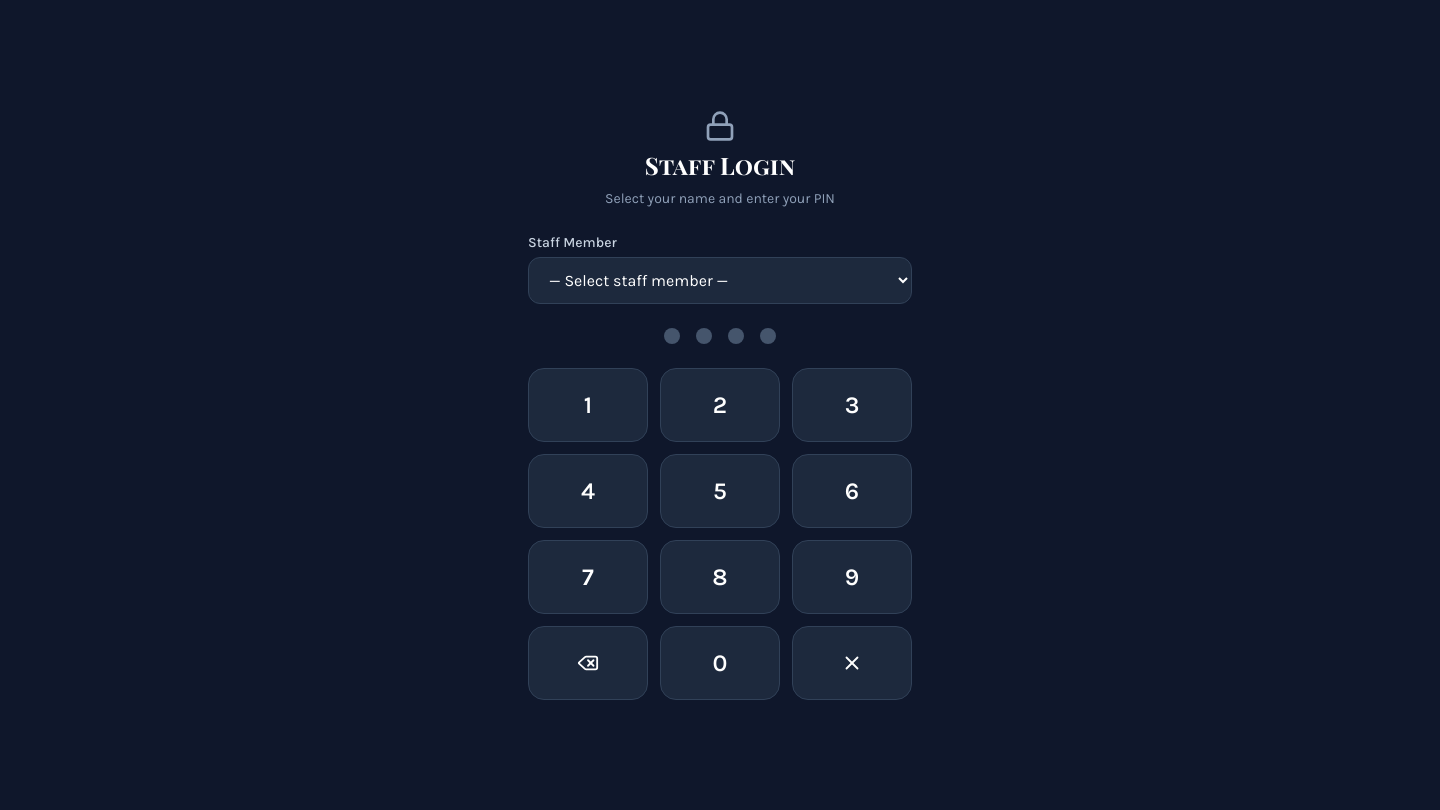
Test case: PinLoginScreen › on invalid PIN shows error message and clears digits
The width and height of the screenshot is (1440, 810).
Select "Alice" in the dropdown labelled "Staff Member": (720, 281) [528,257,912,304]
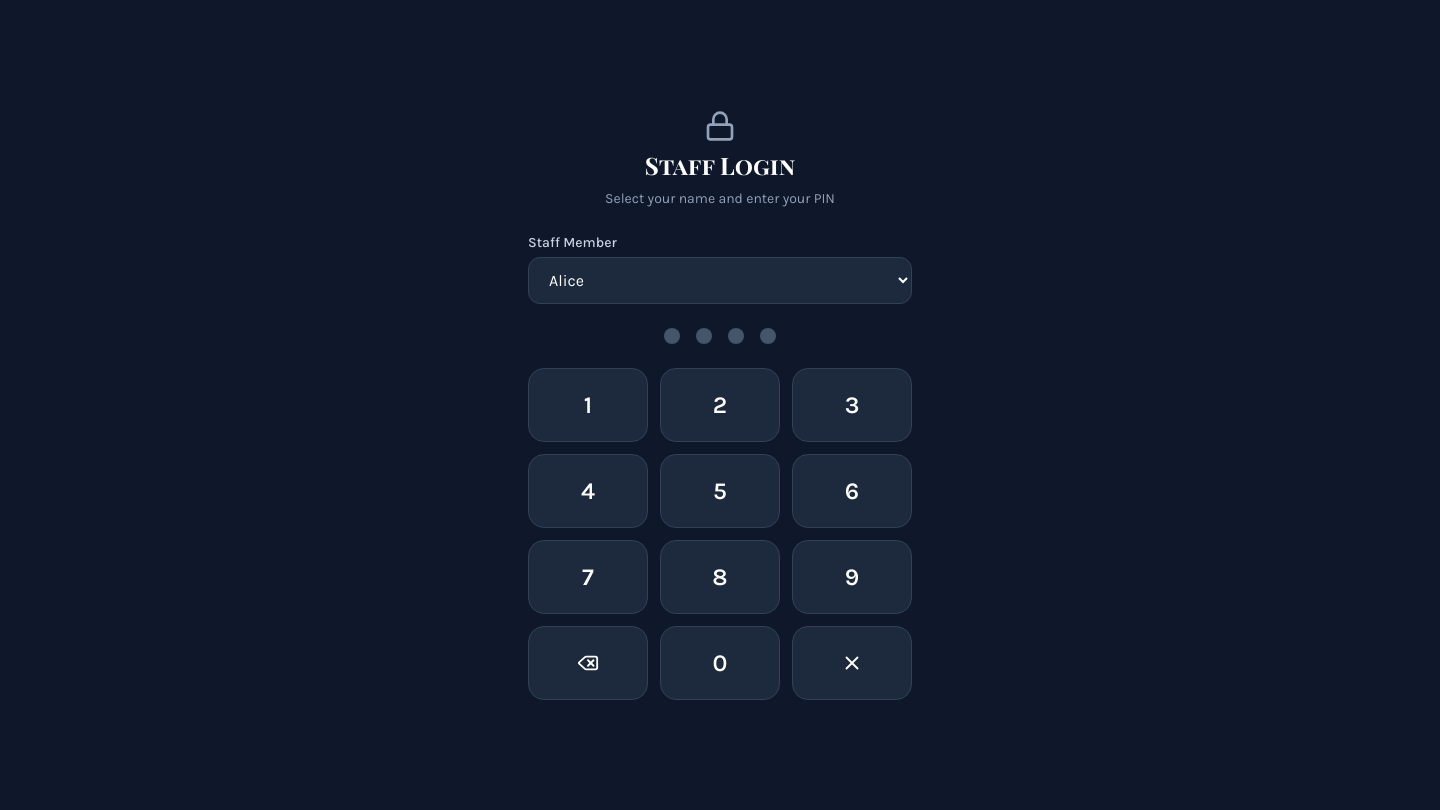
Click the button "9": (852, 577) [792,540,912,614]
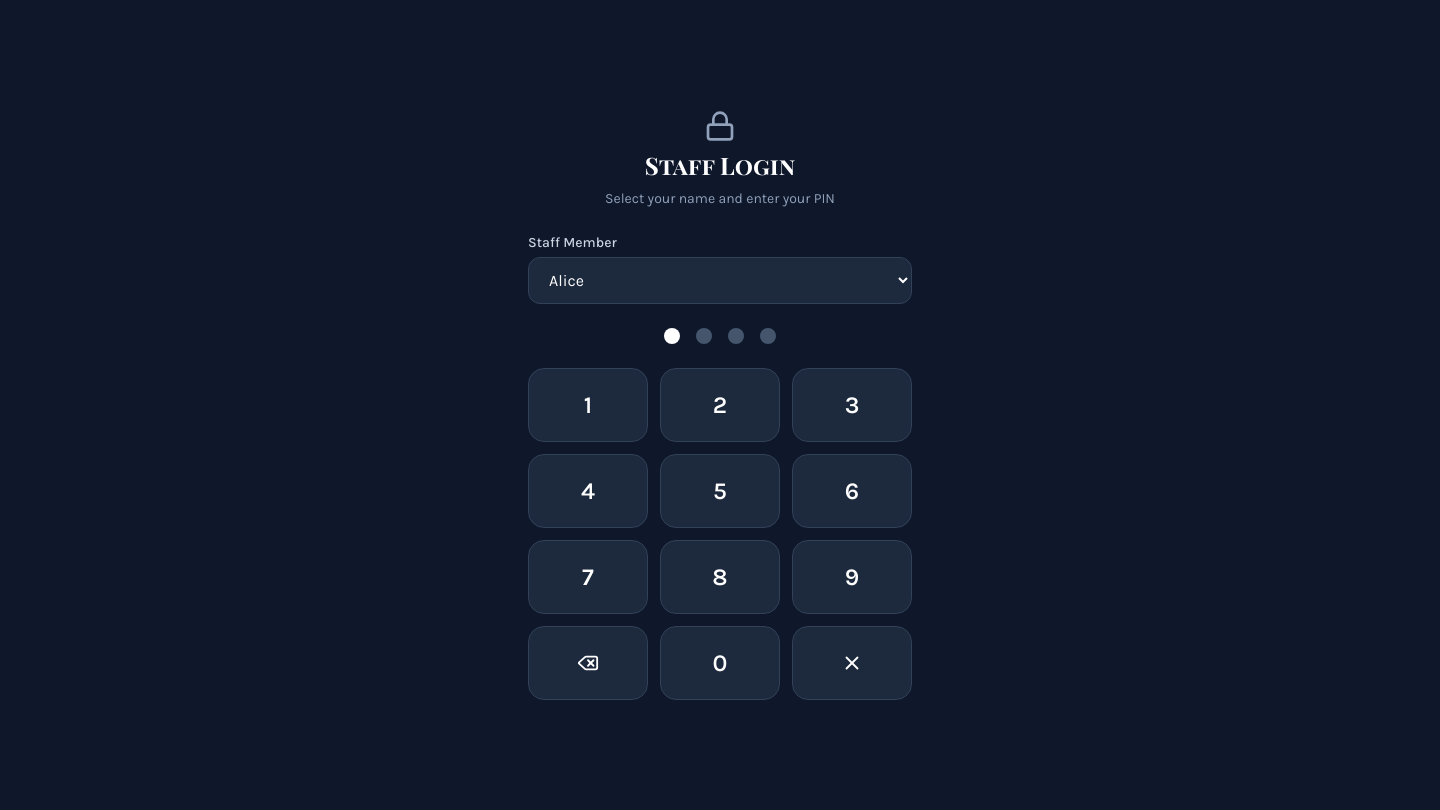
Click the button "9": (852, 577) [792,540,912,614]
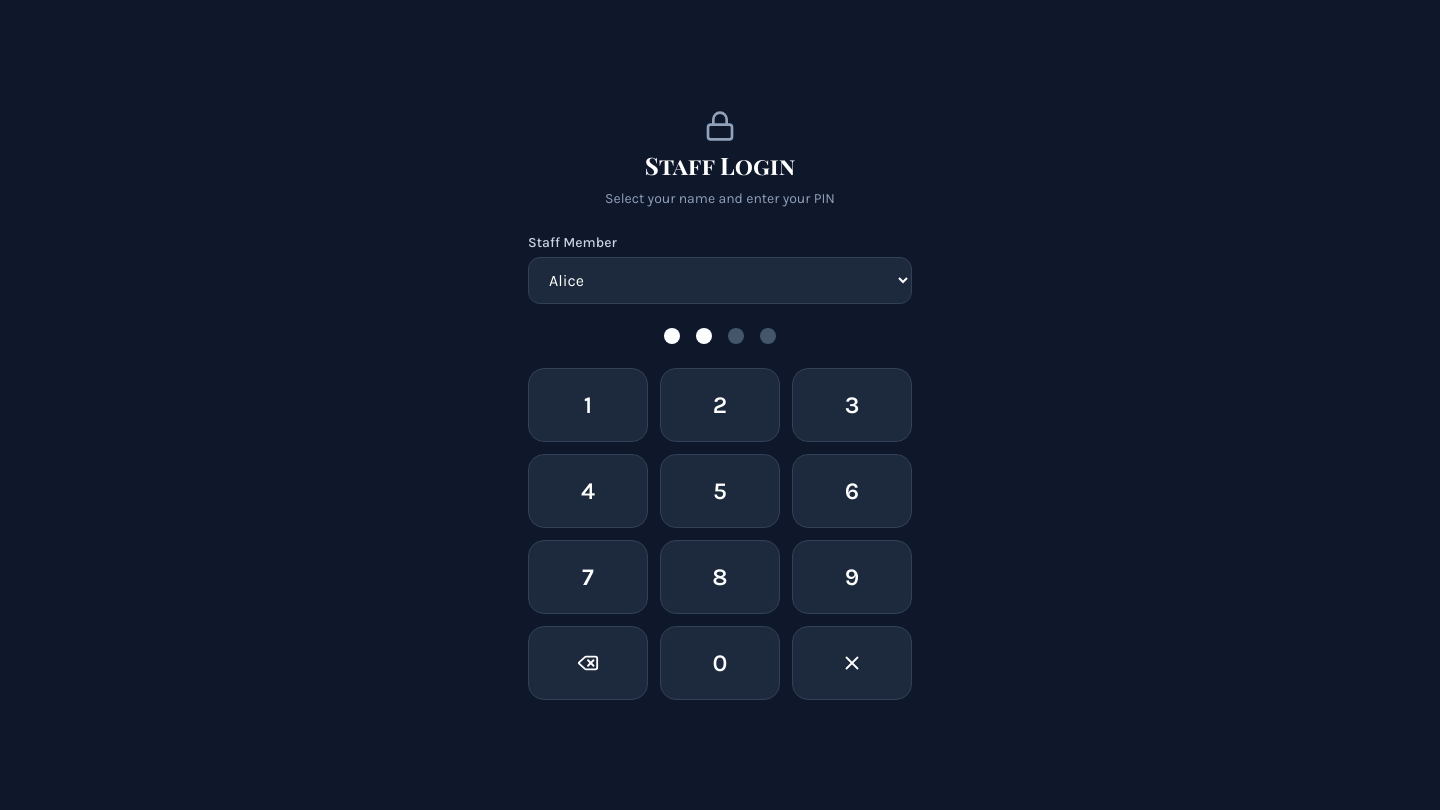
Click the button "9": (852, 577) [792,540,912,614]
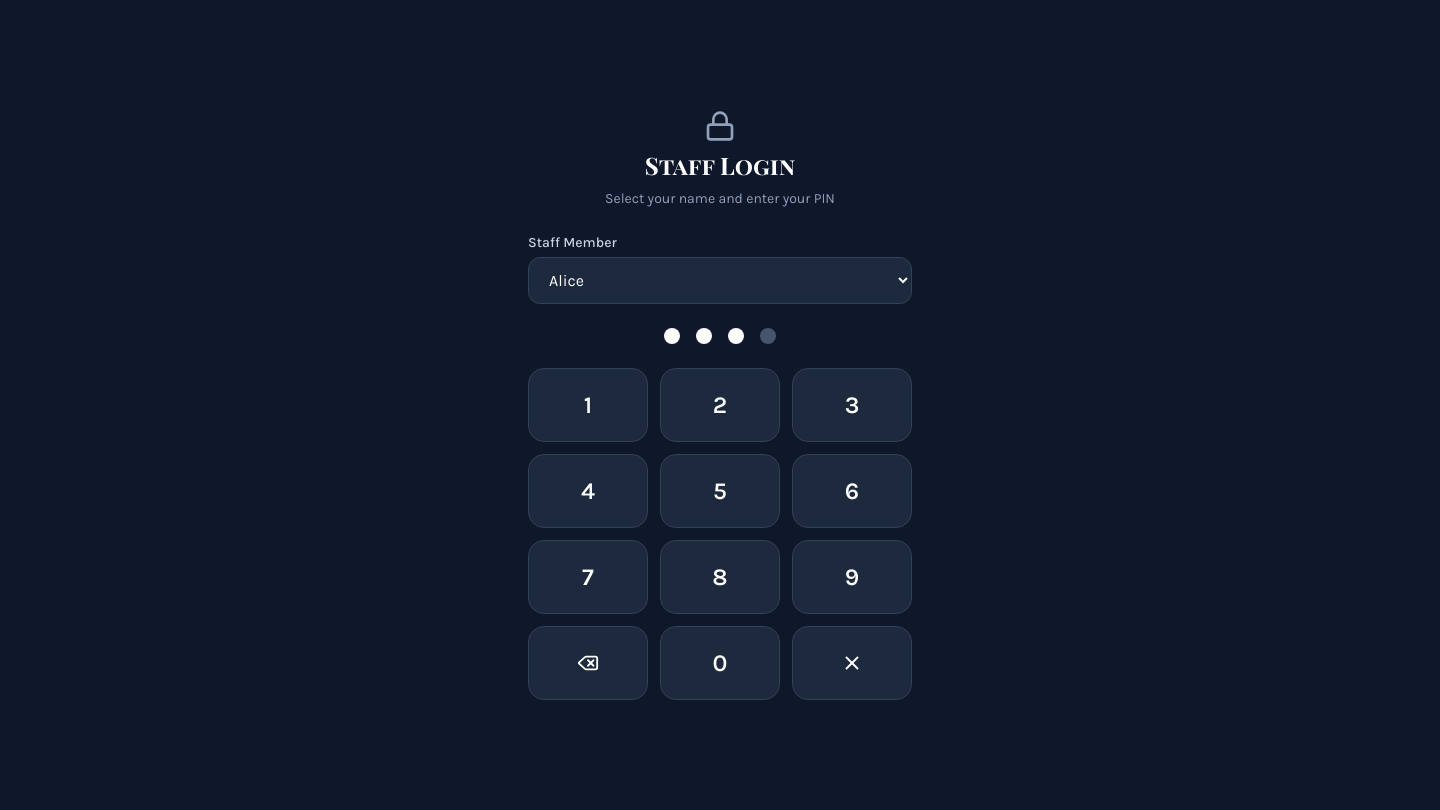
Click the button "9": (852, 577) [792,540,912,614]
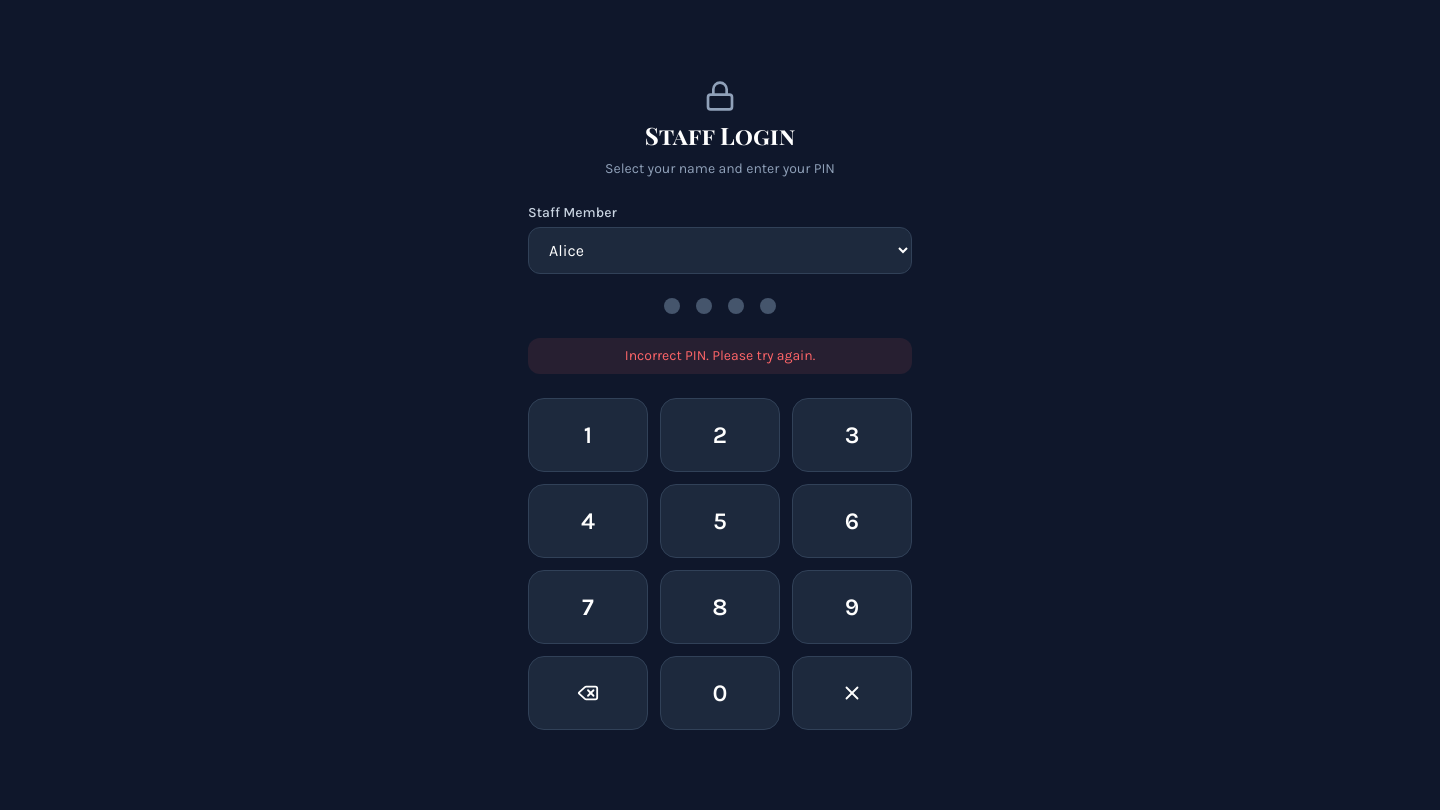
Expected: the message shows "Incorrect PIN", [625,347,815,364]
